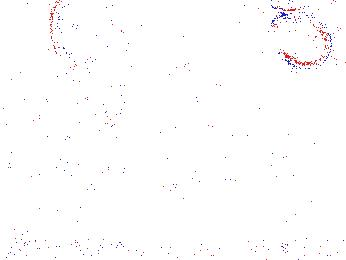moon jellyfish: (174, 84, 241, 174), (38, 78, 131, 141), (50, 1, 126, 68), (162, 63, 242, 123), (270, 13, 331, 70)
